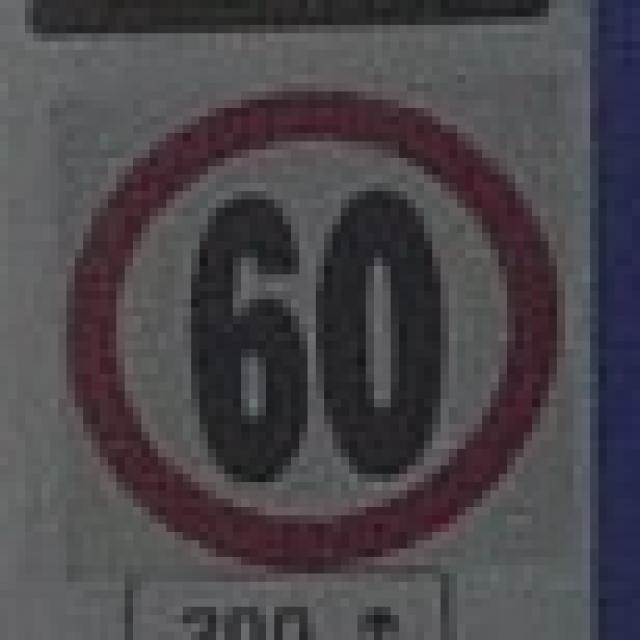Speed Limit -60-: (179, 181, 451, 490)
